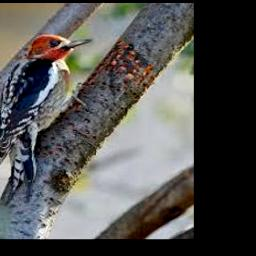Woodpecker: (0, 34, 93, 204)
